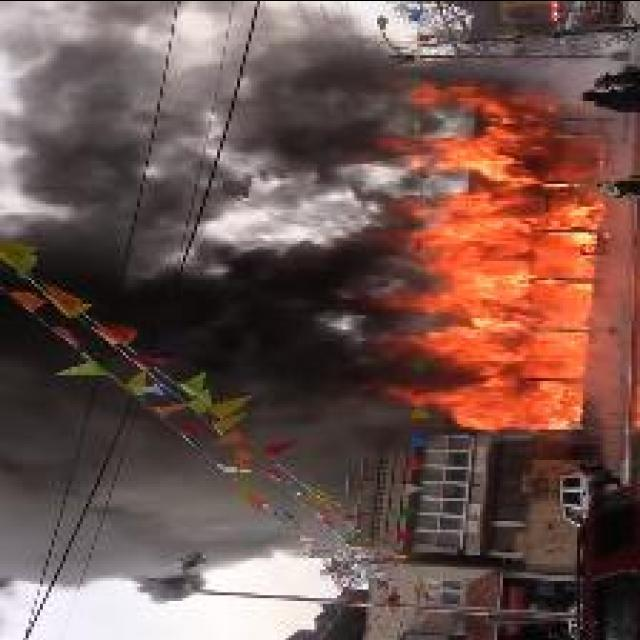Fire: (364, 82, 596, 430)
